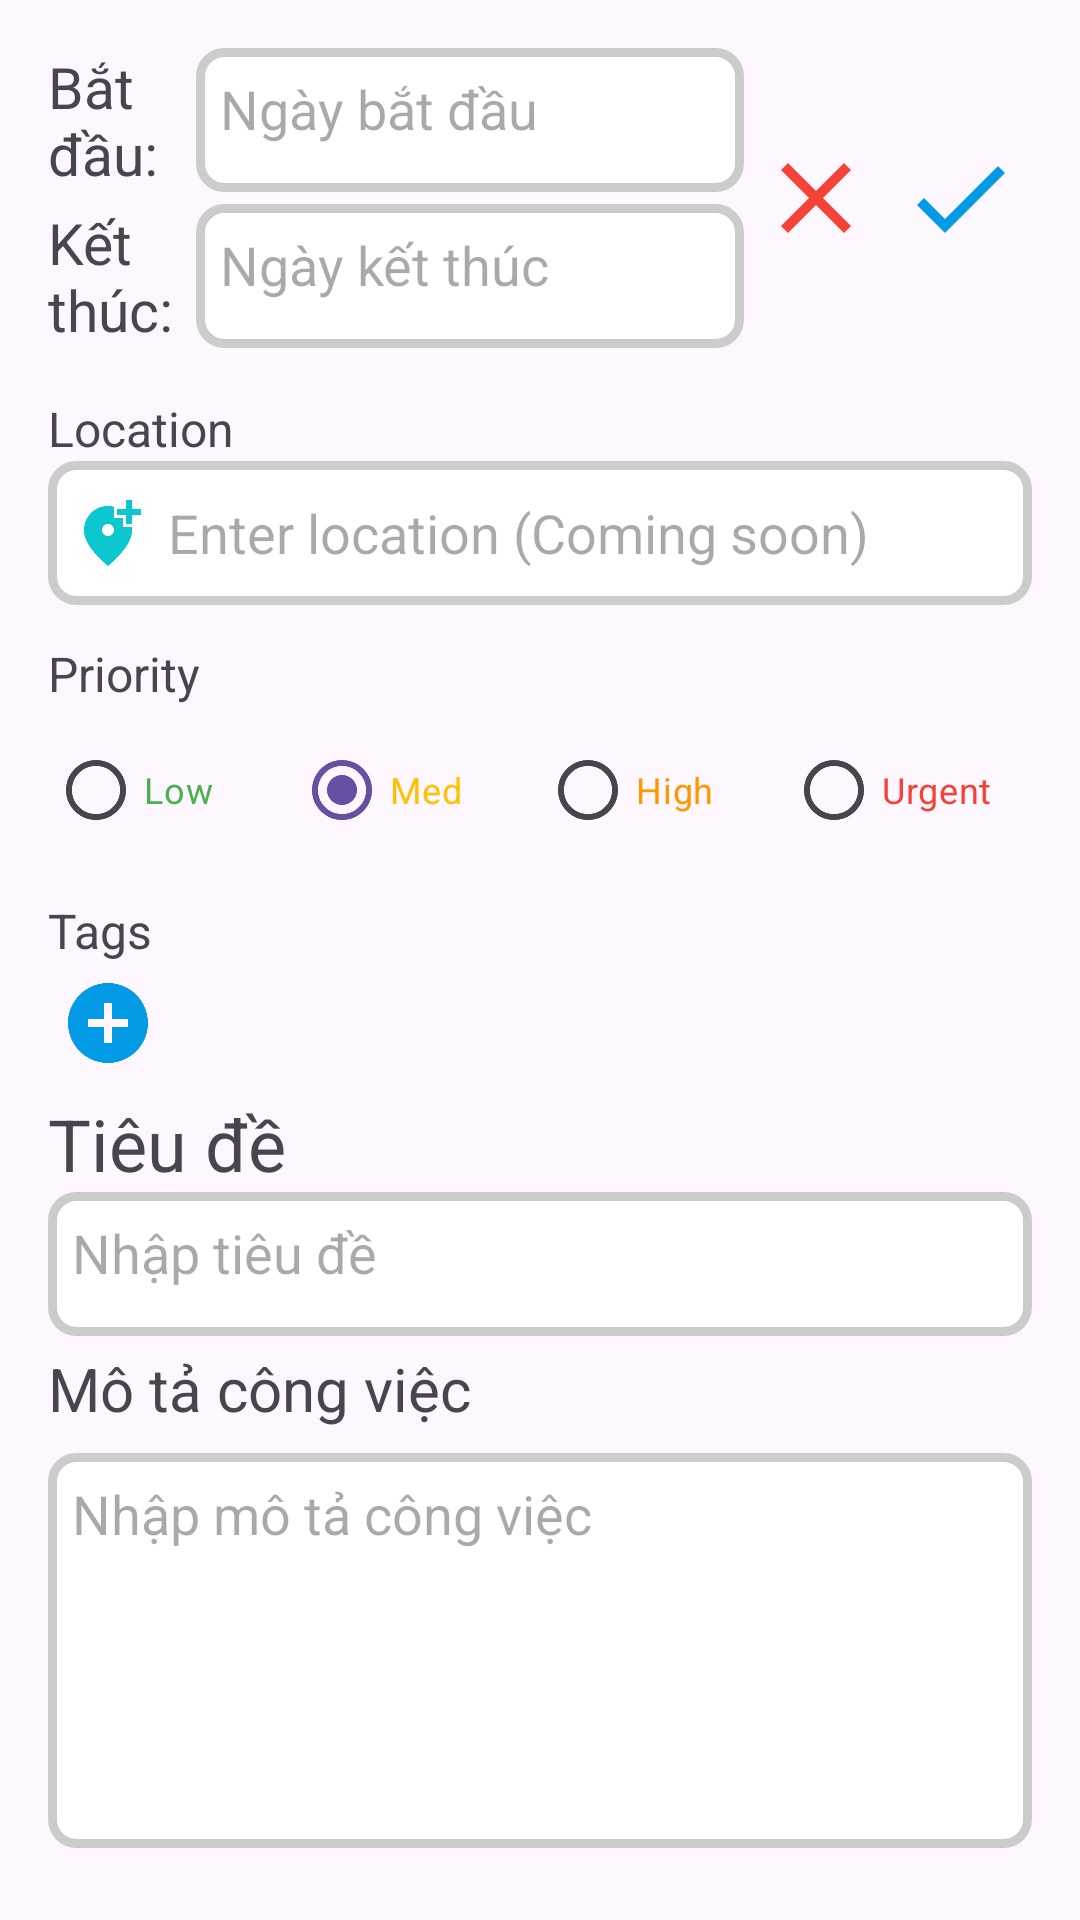

Locate icon controls on the screen. Image size 1080w x 1920h, boxes as bbox(x1, y1, x2, y2).
add: bbox(68, 983, 148, 1063)
Hủy: bbox(781, 163, 851, 233)
Lưu: bbox(917, 166, 1005, 233)
